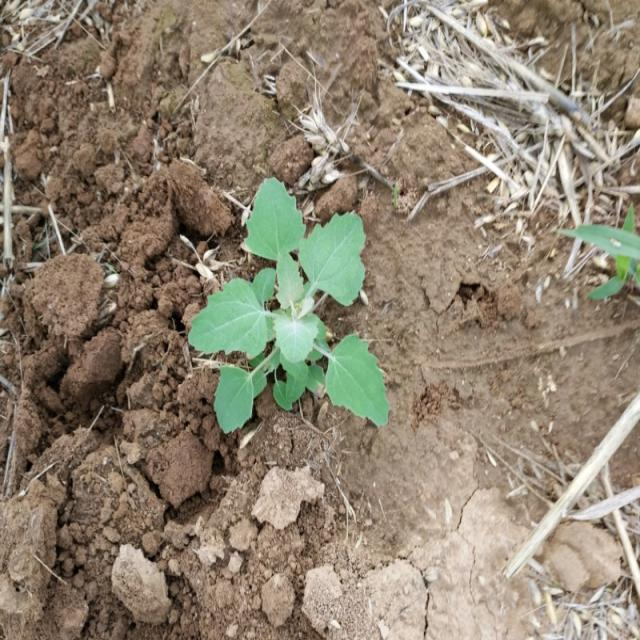goosefoots: (138, 162, 414, 418)
